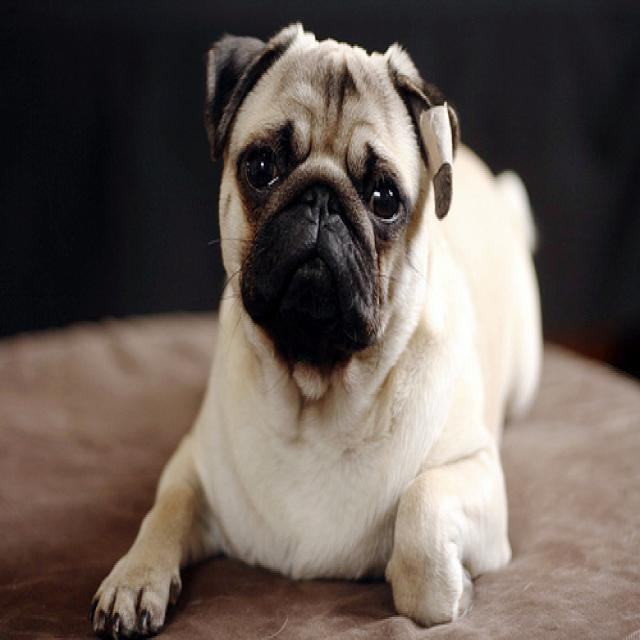dog-pug: (82, 13, 557, 636)
